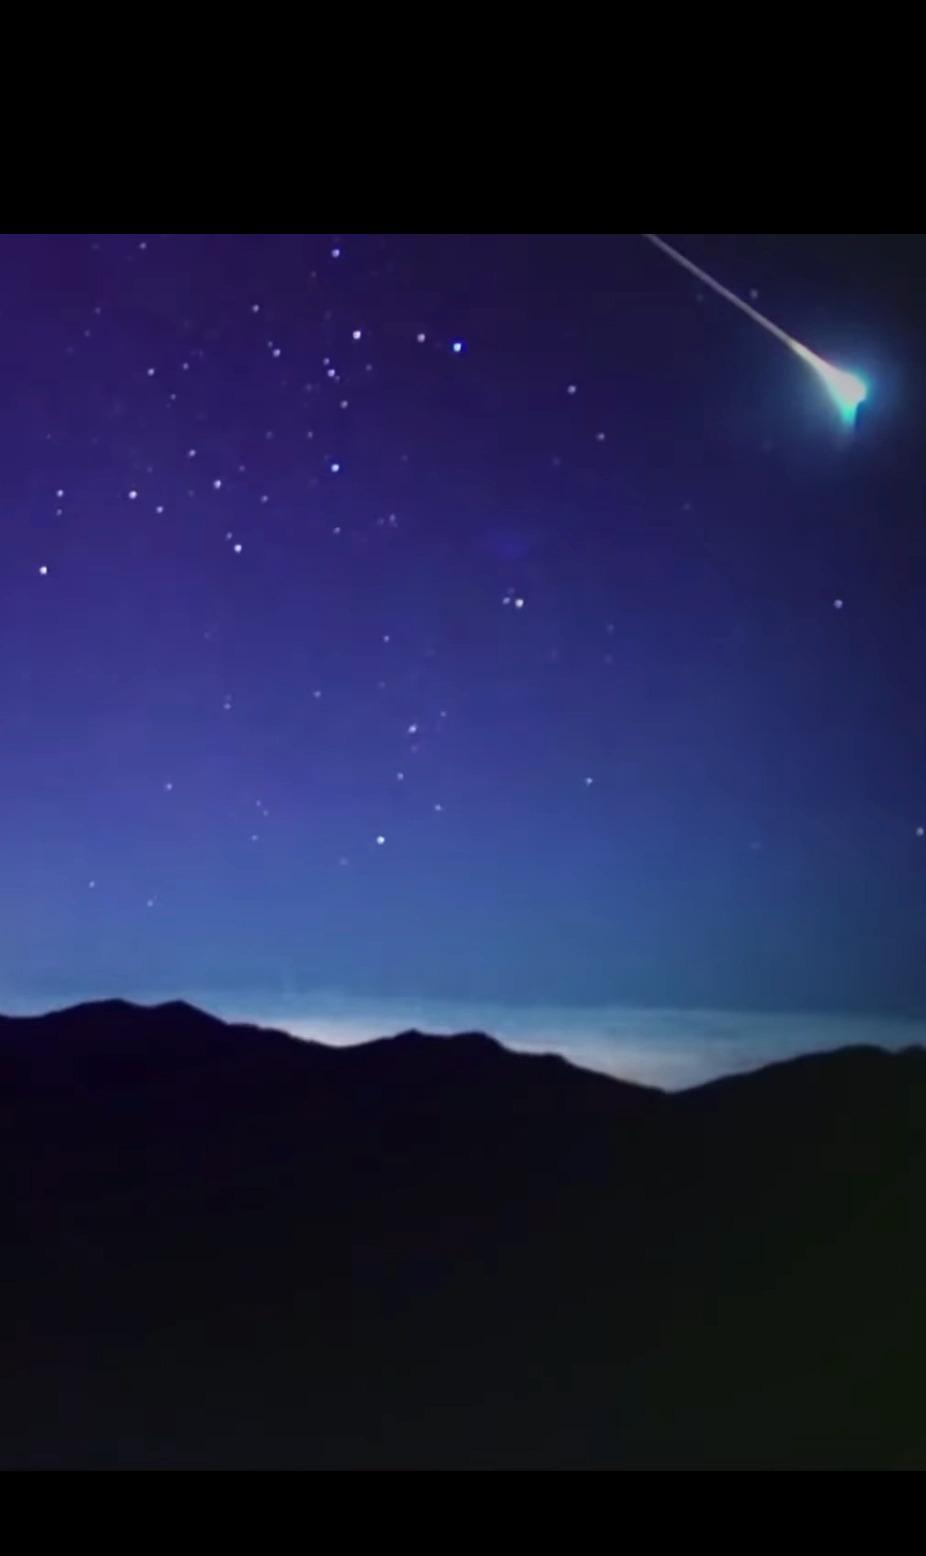meteorite: (652, 233, 876, 429)
